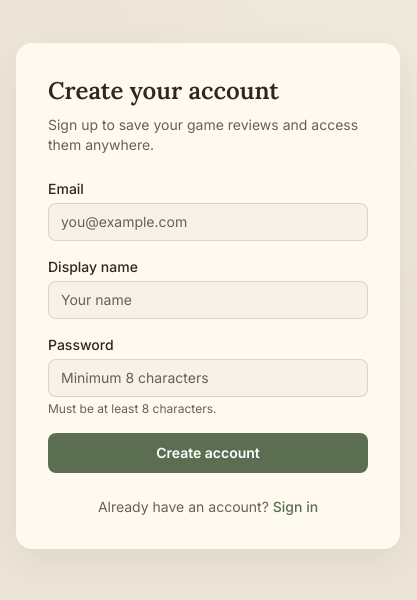
Scenario: Error messages with aria-describedby › signup form inputs have aria-describedby pointing to the error element when error is shown
This screenshot has width=417, height=600.
In the field labelled "Email": (208, 222) [48,203,368,241], type "test@example.com"
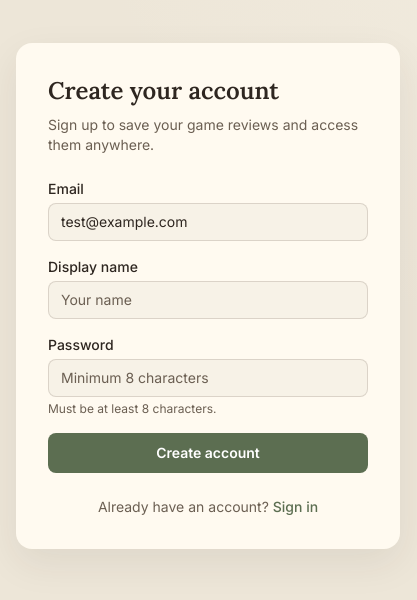
In the field labelled "Display name": (208, 300) [48,281,368,319], type "Test User"
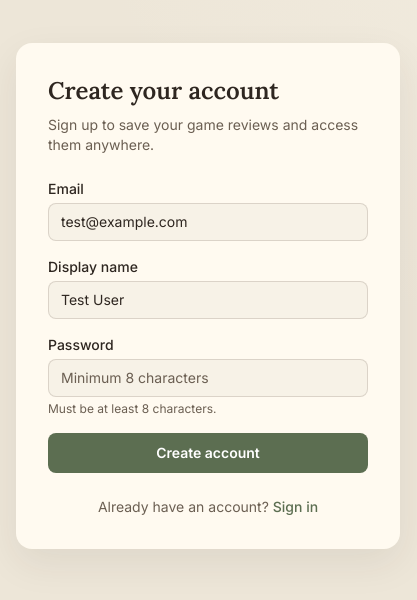
In the password field labelled "Password": (208, 378) [48,359,368,397], type "short"
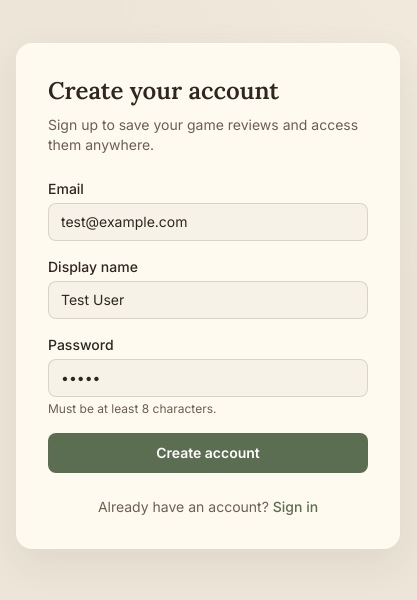
Click the button "Create account": click(208, 453) [48,433,368,473]
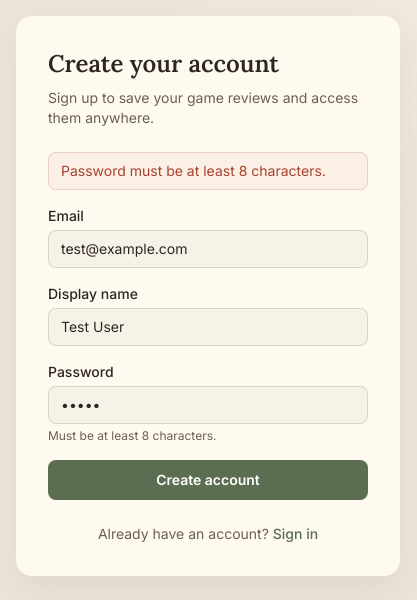
Expected: the message "Password must be at least 8 characters." is shown, [48,152,368,190]
